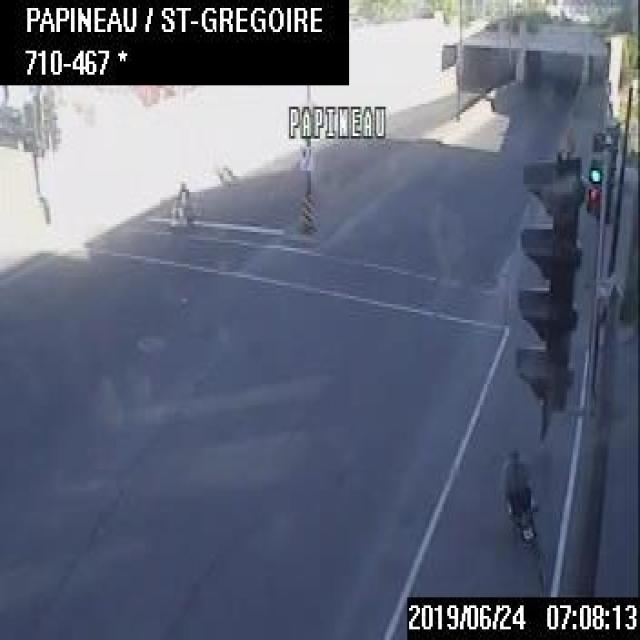cyclist: (500, 448, 542, 565)
pedestrian: (171, 176, 189, 232)
